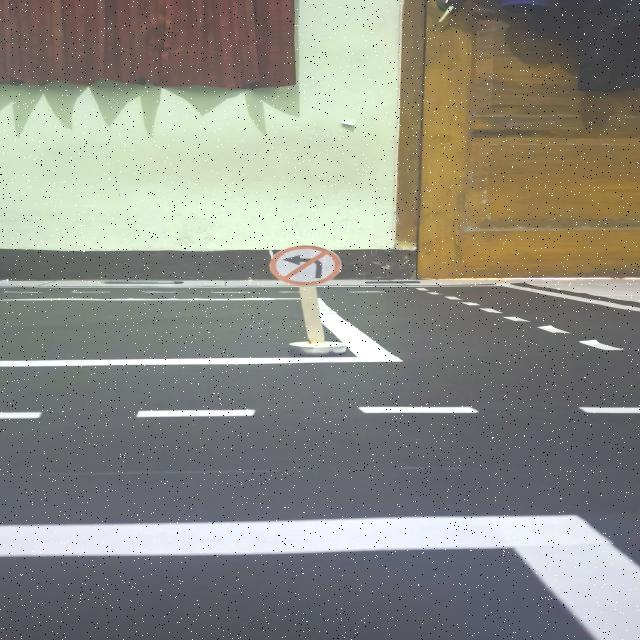Dilarang Belok Kiri: (268, 245, 342, 285)
